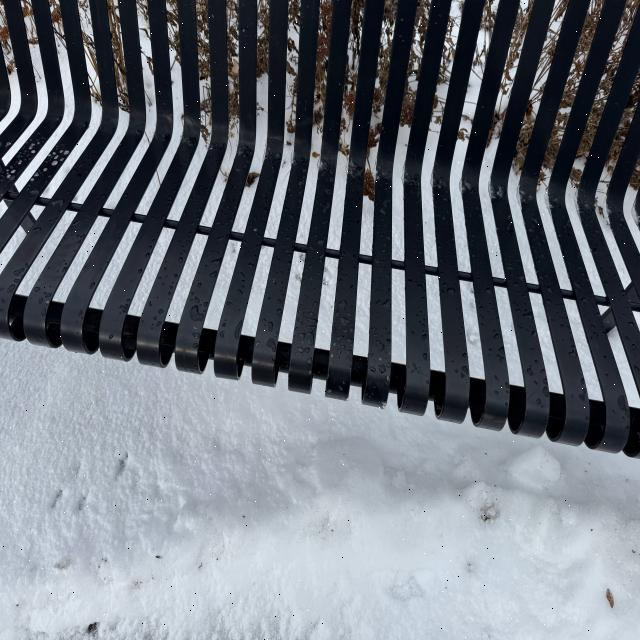Bench: (8, 3, 636, 460)
